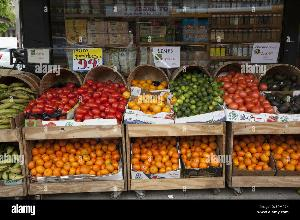avocado: (264, 74, 300, 116)
banana: (0, 80, 32, 184)
lime: (173, 73, 224, 121)
orange: (29, 137, 121, 183), (127, 140, 174, 176), (231, 134, 272, 174), (177, 137, 219, 173), (270, 136, 300, 172)
tomato: (76, 80, 132, 126), (218, 69, 274, 114), (30, 78, 78, 128)
